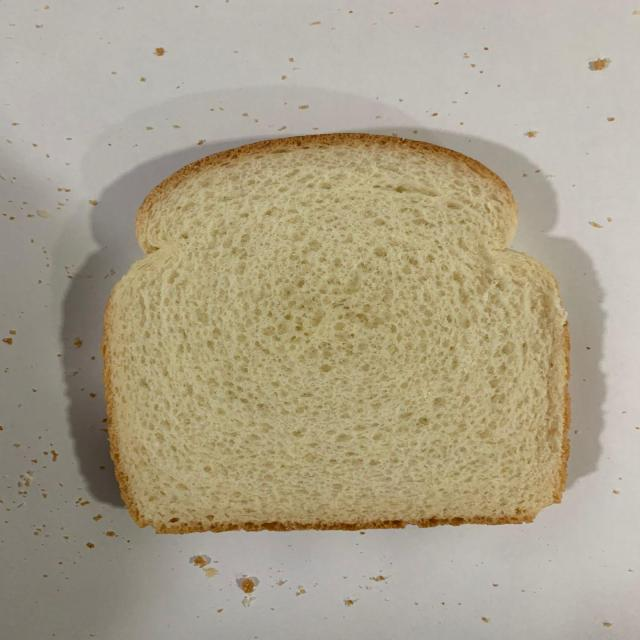pan: (103, 133, 573, 534)
